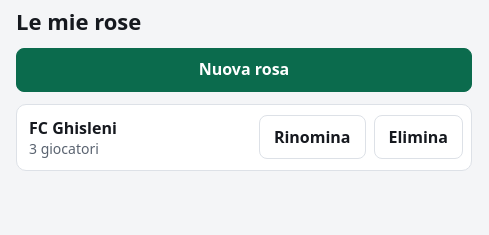
Annulla leaves the name as it was
The image size is (489, 235).
Step 1. Click the button "Rinomina" → [312, 138], box [259,116,366,160]
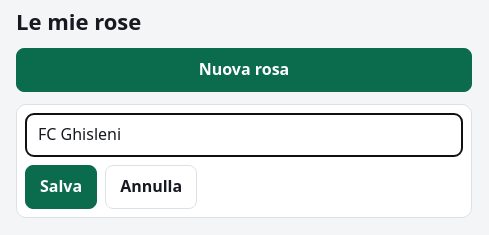
Step 2. Type "xyz" into the field named "Nome della rosa" → [244, 134], box [25,112,463,156]
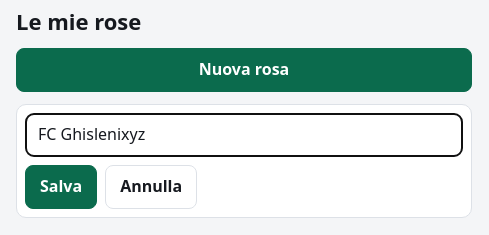
Step 3. Click the button "Annulla" → [151, 186], box [105,164,197,208]
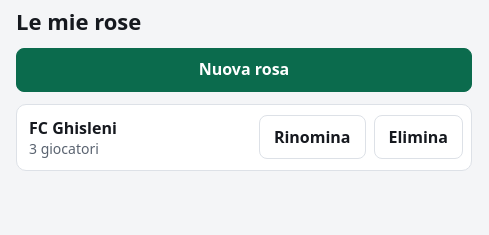
Expected: the text "FC Ghisleni" is shown, [29,116,117,139]
